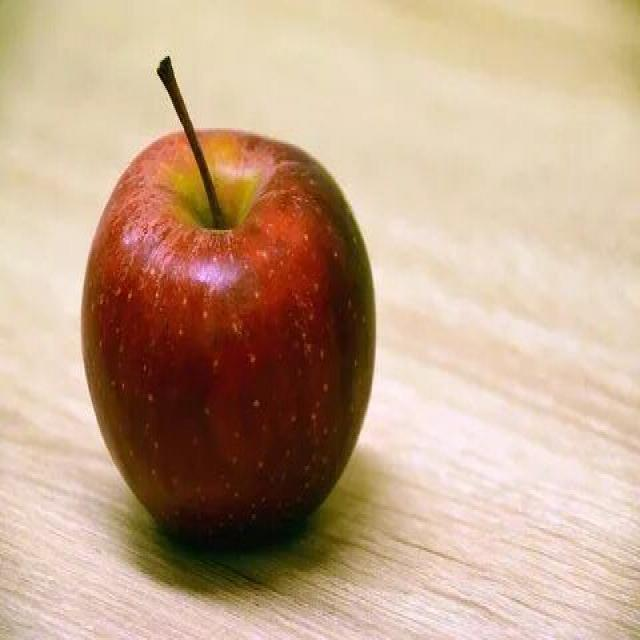Fresh Apple: (91, 130, 366, 557)
